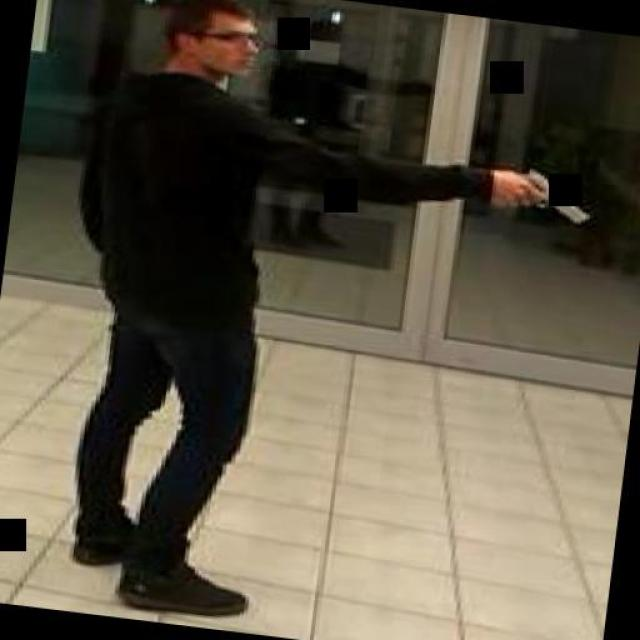gun: (494, 162, 595, 226)
